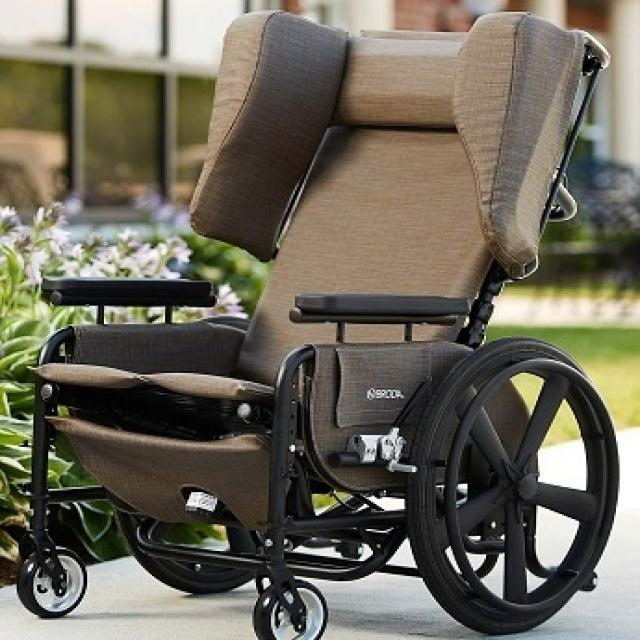wheelchair: (7, 0, 640, 640)
